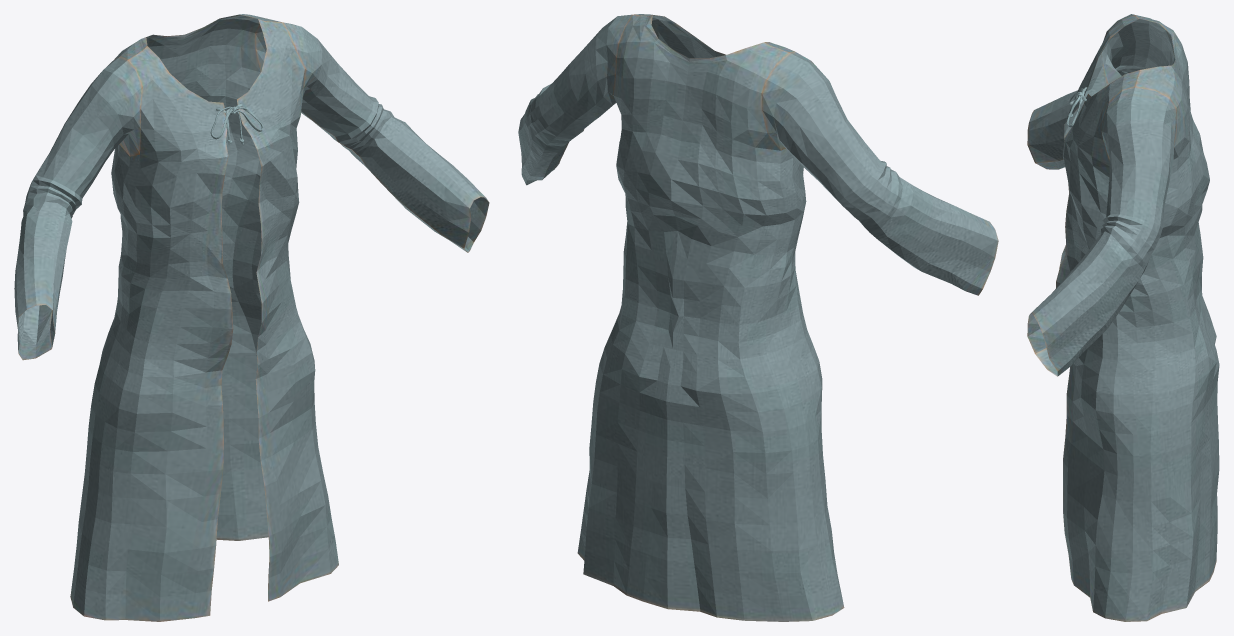
File: mhw_mindfront_cardigan_long_open_front.glb
3 renders of one model, left to right at view 1: azimuth 30°, elevation 25°; view 2: azimuth 150°, elevation 25°; view 3: azimuth 270°, elevation 25°, orthographic. The views are drawn at different scales.
Parts seen in each view (by area): view 1: mhw_mindfront_cardigan_long_open_front; view 2: mhw_mindfront_cardigan_long_open_front; view 3: mhw_mindfront_cardigan_long_open_front.
Boxes of the visible parts, x1,y1,x2,y2 form: mhw_mindfront_cardigan_long_open_front: [14, 14, 489, 621]; mhw_mindfront_cardigan_long_open_front: [518, 14, 998, 621]; mhw_mindfront_cardigan_long_open_front: [1027, 14, 1219, 621].
Size of the model in its own units: 1.12 by 1.25 by 0.4174.
1 material, 1 textured.
